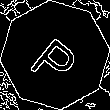P_NE: (25, 24, 85, 86)
